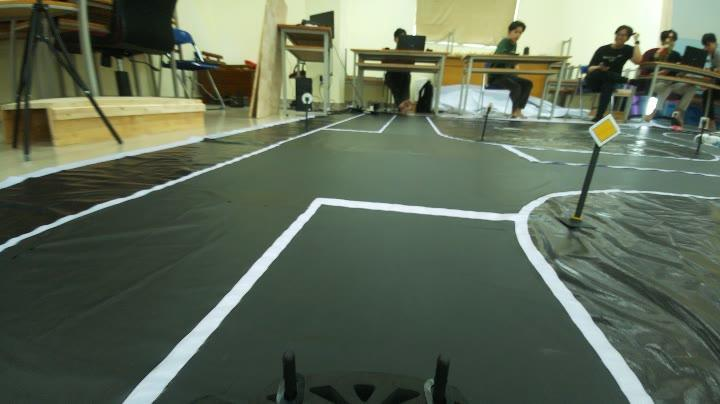priority: (584, 106, 627, 148)
